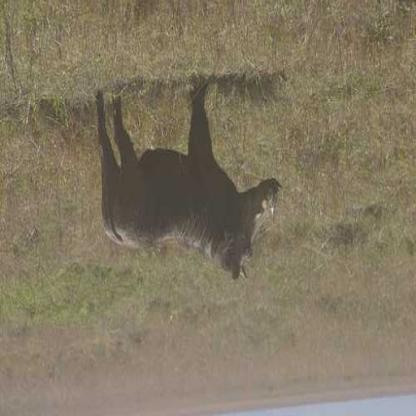boar: (73, 70, 297, 303)
